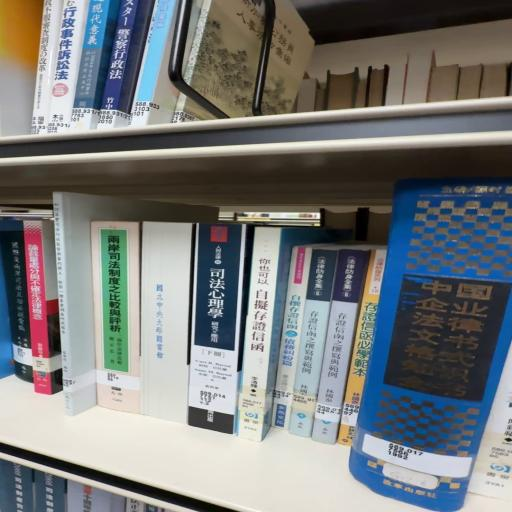backward: (137, 224, 192, 428)
book: (190, 224, 248, 440)
